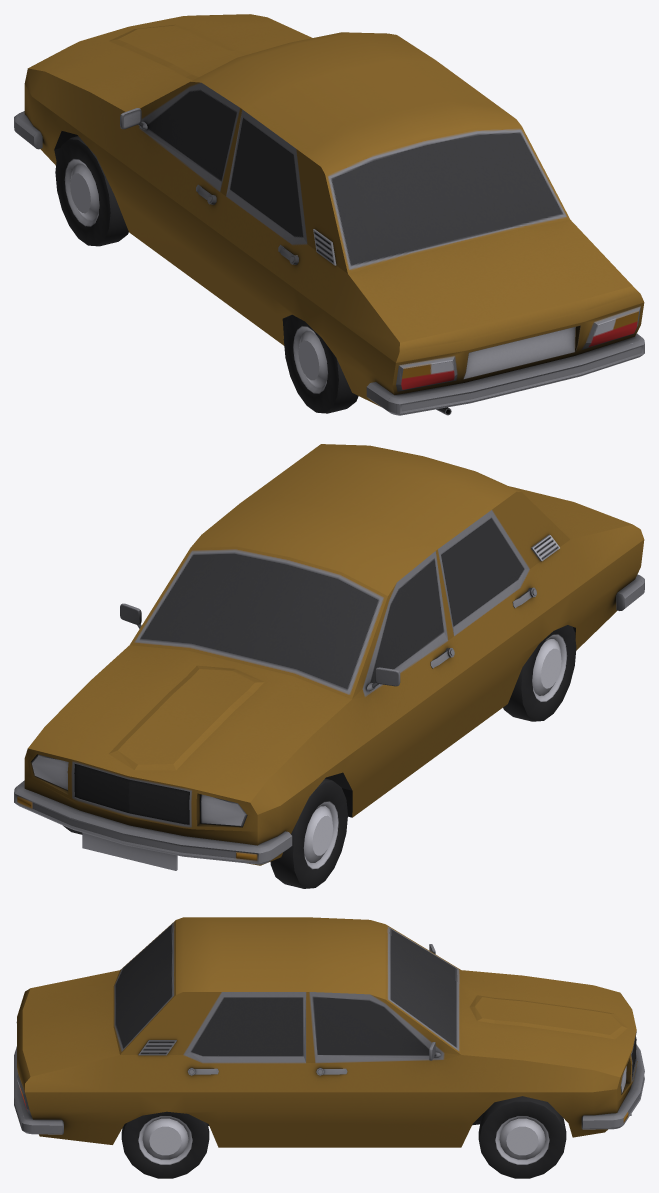
File: Car09.FBX
3 renders of one model, top to bottom at view 1: azimuth 30°, elevation 25°; view 2: azimuth 150°, elevation 25°; view 3: azimuth 270°, elevation 25°, orthographic. The views are drawn at different scales.
Visible parts, largest first — view 1: Body, FLWheel, RLWheel; view 2: Body, FLWheel, RLWheel; view 3: Body, FRWheel, RRWheel.
Boxes of the visible parts, bbox=[...] form: Body: bbox=[14, 14, 644, 415]; FLWheel: bbox=[55, 136, 128, 246]; RLWheel: bbox=[283, 315, 358, 413]; Body: bbox=[14, 444, 644, 870]; FLWheel: bbox=[270, 778, 347, 888]; RLWheel: bbox=[503, 625, 576, 721]; Body: bbox=[14, 917, 644, 1147]; FRWheel: bbox=[478, 1096, 566, 1178]; RRWheel: bbox=[121, 1111, 209, 1178].
Size of the model in its own units: 1.73 by 1.45 by 4.33.
2 materials, 2 textured.
